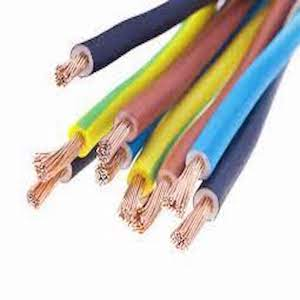combustible: (25, 8, 293, 229)
